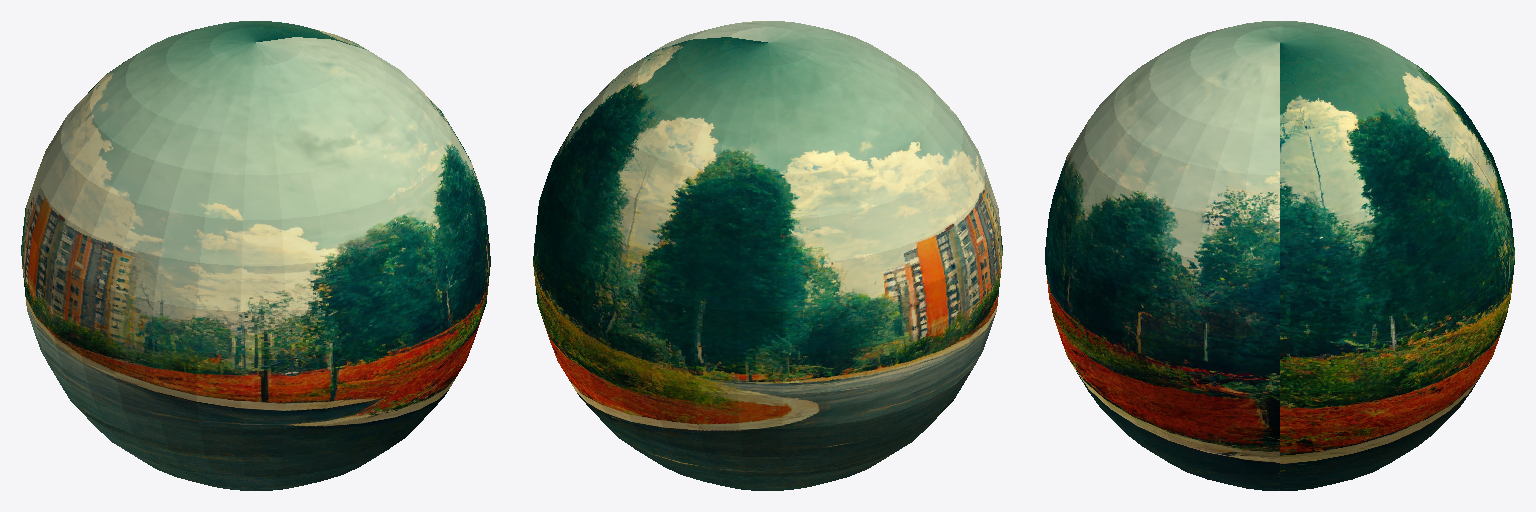
3 renders of one model, left to right at view 1: azimuth 30°, elevation 25°; view 2: azimuth 150°, elevation 25°; view 3: azimuth 270°, elevation 25°, orthographic.
Visible parts, largest first — view 1: 球; view 2: 球; view 3: 球.
Part boxes in pixels (x1,y1,x2,y2): 球: (21, 21, 490, 490); 球: (533, 21, 1002, 490); 球: (1045, 21, 1514, 490).
Size of the model in its own units: 2 by 2 by 2.
Materials: 1 (1 with a texture image).